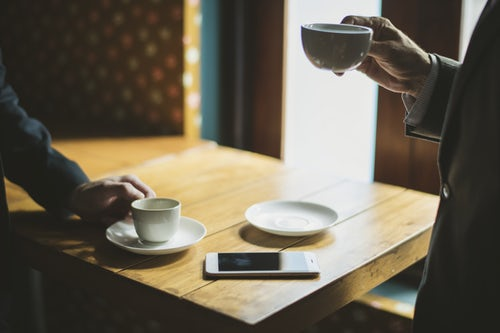phone: (205, 246, 321, 283)
